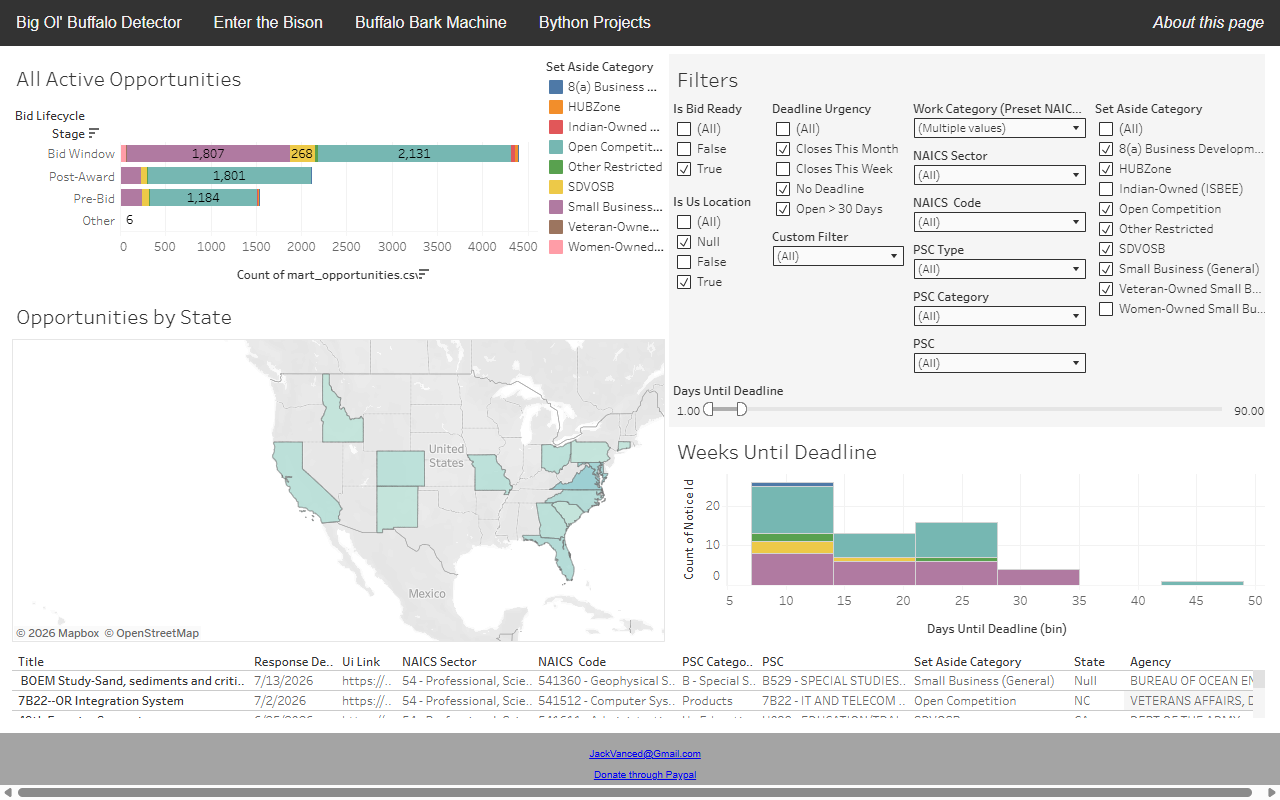

The dashboard page shown, as its layout file describes it:
{"tool":"tableau","page":{"name":"Dashboard 1","canvas":[1000,1000],"units":"permille","ordinal":0},"visuals":[{"type":"worksheet","title":"Active Opportunities","mark":"Automatic","rows":["BID_LIFECYCLE_STAGE"],"cols":["mart_opportunities.csv_D4FB655D936140DC87A671AC4DCDF213"],"box":[5,8.9,417.9,298.7]},{"type":"legend","title":"Active Opportunities","param":"[federated.0kevwh01erinsc1dkiyfs0rueomu].[none:SET_ASIDE_CATEGORY:nk]","box":[422.9,8.9,100,298.7]},{"type":"worksheet","title":"Filters","mark":"Automatic","box":[522.9,8.9,472.1,45.8]},{"type":"filter","title":"Filters","param":"[federated.0kevwh01erinsc1dkiyfs0rueomu].[none:IS_BID_READY:nk]","box":[522.9,54.7,61.9,99.3]},{"type":"filter","title":"Filters","param":"[federated.0kevwh01erinsc1dkiyfs0rueomu].[none:DEADLINE_URGENCY:nk]","box":[584.8,54.7,88.1,138.4]},{"type":"filter","title":"Filters","param":"[federated.0kevwh01erinsc1dkiyfs0rueomu].[none:WORK_PATH_PRIMARY:nk]","box":[672.9,54.7,177.7,52.5]},{"type":"filter","title":"Filters","param":"[federated.0kevwh01erinsc1dkiyfs0rueomu].[none:SET_ASIDE_CATEGORY:nk]","box":[850.6,54.7,144.4,314.7]},{"type":"filter","title":"Filters","param":"[federated.0kevwh01erinsc1dkiyfs0rueomu].[none:Calculation_9186708138074114:nk]","box":[672.9,107.1,177.7,52.5]},{"type":"filter","title":"Filters","param":"[federated.0kevwh01erinsc1dkiyfs0rueomu].[none:IS_US_LOCATION:nk]","box":[522.9,154,61.9,120.5]},{"type":"filter","title":"Filters","param":"[federated.0kevwh01erinsc1dkiyfs0rueomu].[none:Calculation_9186708136599552:nk]","box":[672.9,159.6,177.7,52.5]},{"type":"filter","title":"Filters","param":"[federated.0kevwh01erinsc1dkiyfs0rueomu].[none:IS_PERSONAL_TARGET_ZONE:nk]","box":[584.8,193.1,88.1,58]},{"type":"filter","title":"Filters","param":"[federated.0kevwh01erinsc1dkiyfs0rueomu].[none:PSC_TYPE:nk]","box":[672.9,212,177.7,52.5]},{"type":"filter","title":"Filters","param":"[federated.0kevwh01erinsc1dkiyfs0rueomu].[none:Calculation_9186708139151363:nk]","box":[672.9,264.5,177.7,52.5]},{"type":"worksheet","title":"Opportunities by State","mark":"Automatic","box":[5,307.6,517.9,443.5]},{"type":"filter","title":"Filters","param":"[federated.0kevwh01erinsc1dkiyfs0rueomu].[none:Calculation_9186708137447425:nk]","box":[672.9,316.9,177.7,52.5]},{"type":"filter","title":"Filters","param":"[federated.0kevwh01erinsc1dkiyfs0rueomu].[none:DAYS_UNTIL_DEADLINE:qk]","box":[522.9,369.4,472.1,55.8]},{"type":"worksheet","title":"Weeks Until Deadline","mark":"Automatic","rows":["NOTICE_ID"],"cols":["Days Until Deadline (bin)"],"box":[522.9,425.2,472.1,325.9]},{"type":"worksheet","title":"Data View","mark":"Automatic","rows":["TITLE","RESPONSE_DEADLINE_DATE","UI_LINK","Calculation_9186708138074114","Calculation_9186708136599552","Calculation_9186708139151363","Calculation_9186708137447425","SET_ASIDE_CATEGORY","STATE","AGENCY"],"box":[5,751.1,990,240]}]}

Visuals, with their boxes on the dashboard's canvas, which has no fixed pixel size, in thousandths of its width and height (x1, y1, x2, y2). These are canvas units, not pixel positions in the 1280x800 screenshot, which may show the page scaled, cropped or inside an application window:
"Active Opportunities" worksheet: [5,9,423,308]
"Active Opportunities" legend: [423,9,523,308]
"Filters" worksheet: [523,9,995,55]
"Filters" filter: [523,55,585,154]
"Filters" filter: [585,55,673,193]
"Filters" filter: [673,55,851,107]
"Filters" filter: [851,55,995,369]
"Filters" filter: [673,107,851,160]
"Filters" filter: [523,154,585,274]
"Filters" filter: [673,160,851,212]
"Filters" filter: [585,193,673,251]
"Filters" filter: [673,212,851,264]
"Filters" filter: [673,264,851,317]
"Opportunities by State" worksheet: [5,308,523,751]
"Filters" filter: [673,317,851,369]
"Filters" filter: [523,369,995,425]
"Weeks Until Deadline" worksheet: [523,425,995,751]
"Data View" worksheet: [5,751,995,991]
